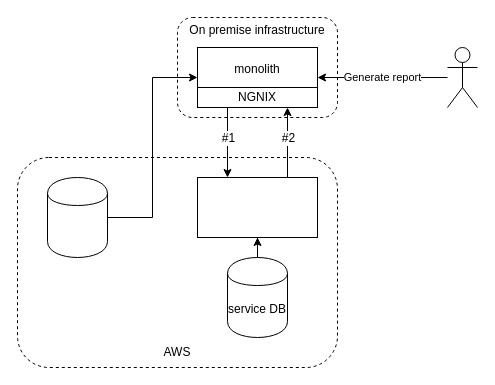
This 495x385 diagram has some shape labels left out. Here are the shapes that lost their labels. From the top down, the centre of each, then its label:
At (462,77): "User".
At (77,217): "monolith DB".
At (257,207): "new service".
